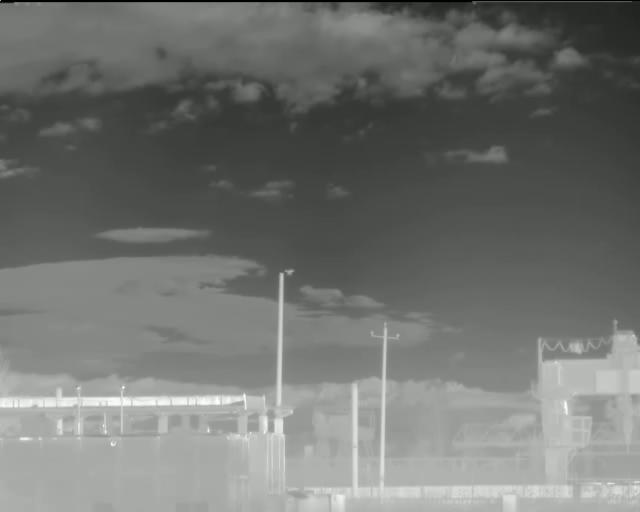uav: (284, 269, 296, 277)
